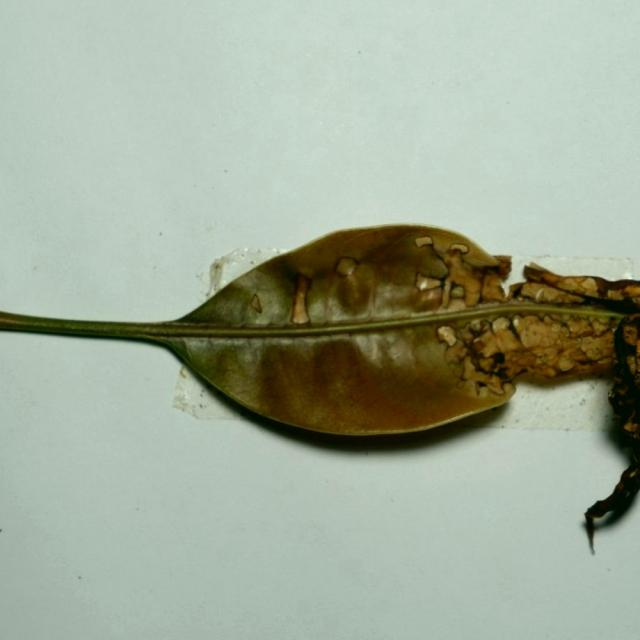Anthracnose: (518, 318, 555, 348), (458, 246, 500, 269), (290, 278, 311, 324), (435, 318, 462, 353), (481, 274, 508, 304), (531, 285, 568, 304), (566, 319, 596, 337), (512, 319, 533, 343), (581, 341, 607, 360), (481, 378, 507, 397), (617, 282, 640, 302), (335, 258, 358, 277), (479, 338, 501, 357), (622, 411, 640, 434), (416, 275, 441, 291), (463, 284, 480, 307), (622, 323, 638, 346), (527, 261, 551, 275), (537, 315, 558, 331), (492, 318, 510, 336), (444, 298, 466, 312), (477, 356, 496, 372), (441, 281, 452, 308), (249, 293, 263, 313), (625, 354, 637, 377), (472, 337, 488, 353), (554, 316, 571, 331), (587, 508, 605, 522), (414, 236, 434, 248), (582, 278, 598, 292), (459, 365, 473, 381), (509, 282, 523, 298), (558, 358, 575, 371), (470, 382, 484, 397), (540, 366, 557, 378), (453, 244, 469, 255), (606, 289, 622, 300), (511, 316, 521, 333), (469, 320, 483, 332), (451, 286, 464, 298), (535, 288, 545, 302), (537, 354, 548, 366), (456, 379, 467, 389), (179, 367, 187, 379)
Mango: (0, 225, 639, 445)
